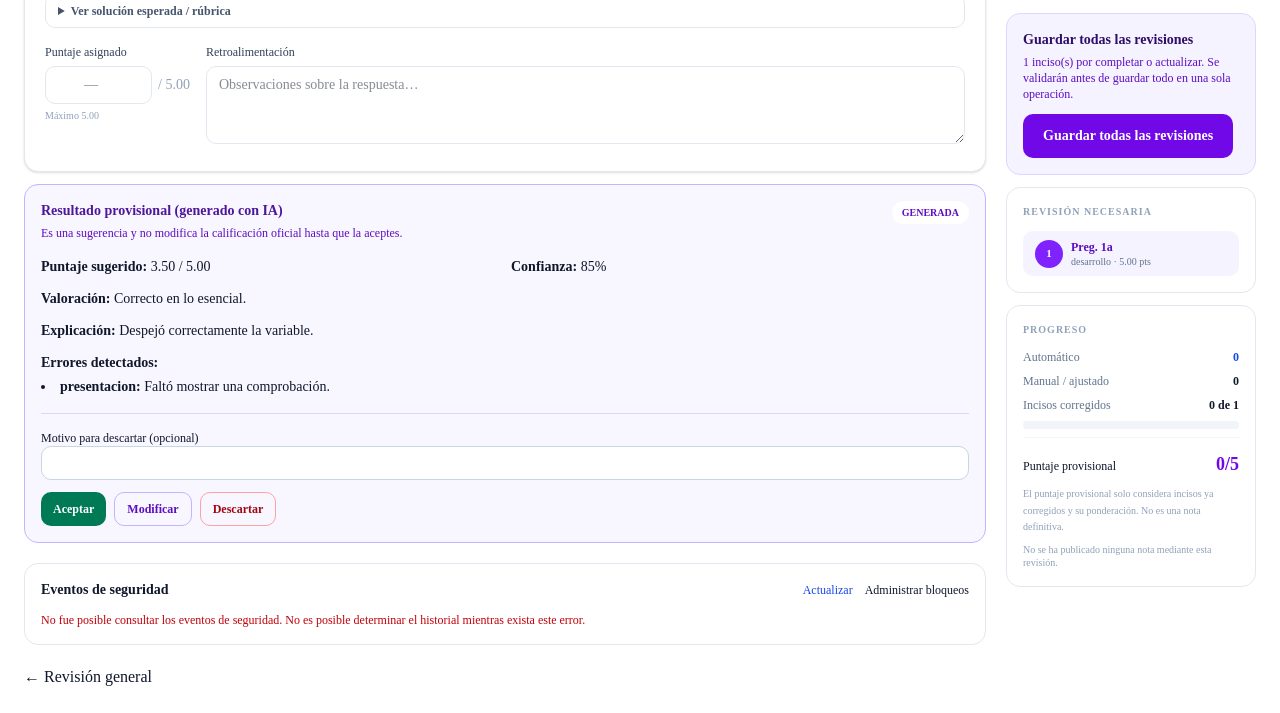
Scenario: RevisionEstudiante — propuestas de corrección IA › muestra la propuesta generada y actualiza la nota oficial solo después de aceptarla
This screenshot has width=1280, height=713.
Later steps or results of the test are not shown.
(page scrolled)
Expected: the text "Correcto en lo esencial." is shown, [114,291,246,306]
Expected: the text "Despejó correctamente la variable." is shown, [119,323,314,338]
Click the button "Aceptar" at x=74, y=509, box [41,492,106,526]
(page scrolled)
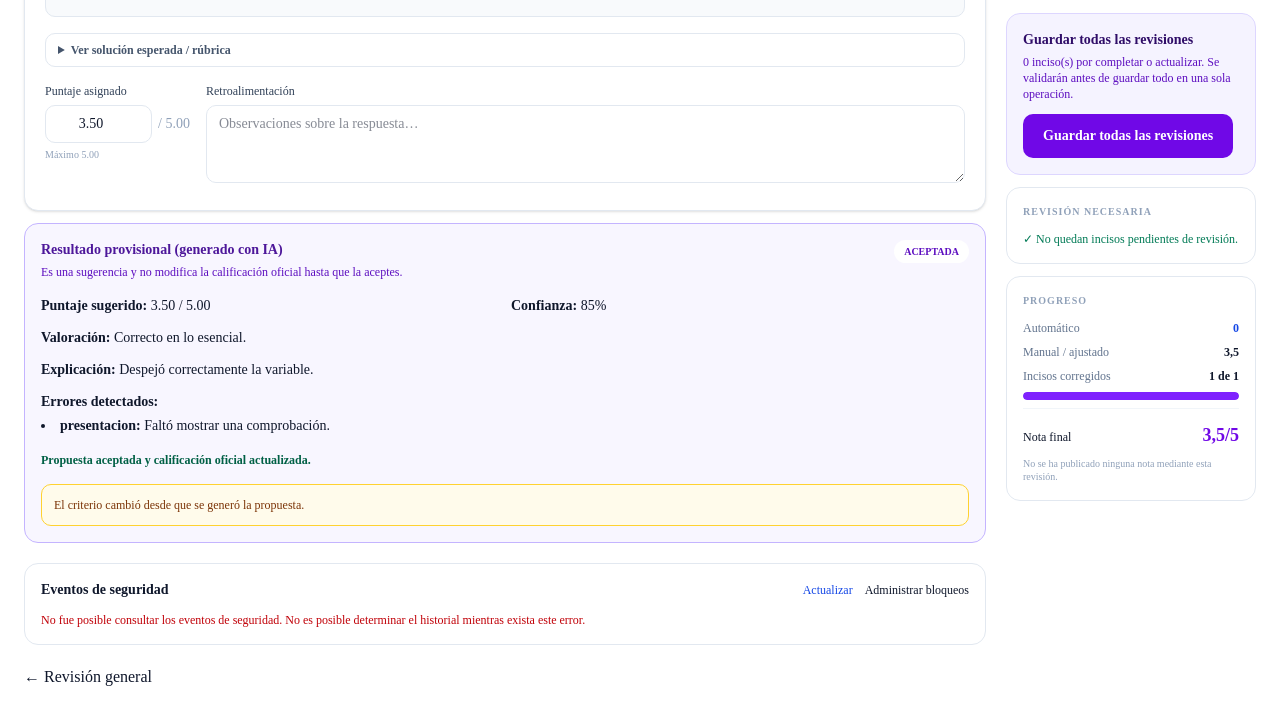
Expected: the number field labelled "Puntaje asignado" holds "3.50", [45,105,152,143]
Expected: the text "El criterio cambió desde que se generó la propuesta." is shown, [41,484,969,526]
